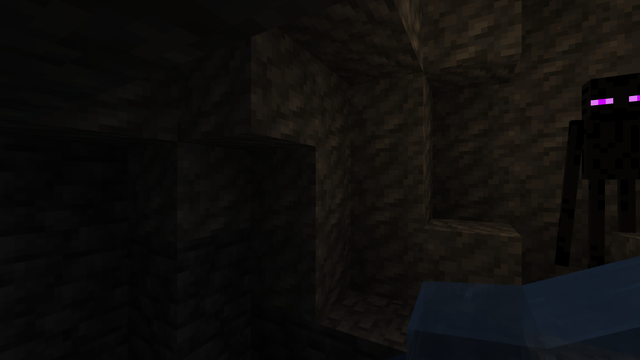endermens: (572, 66, 638, 324)
